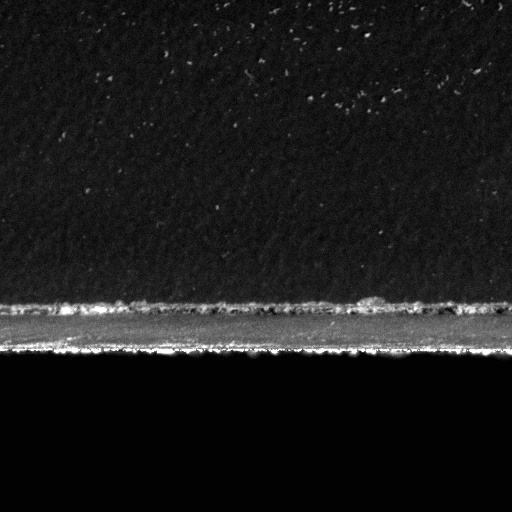jiaofeng: (392, 302, 511, 318), (203, 301, 298, 320)
